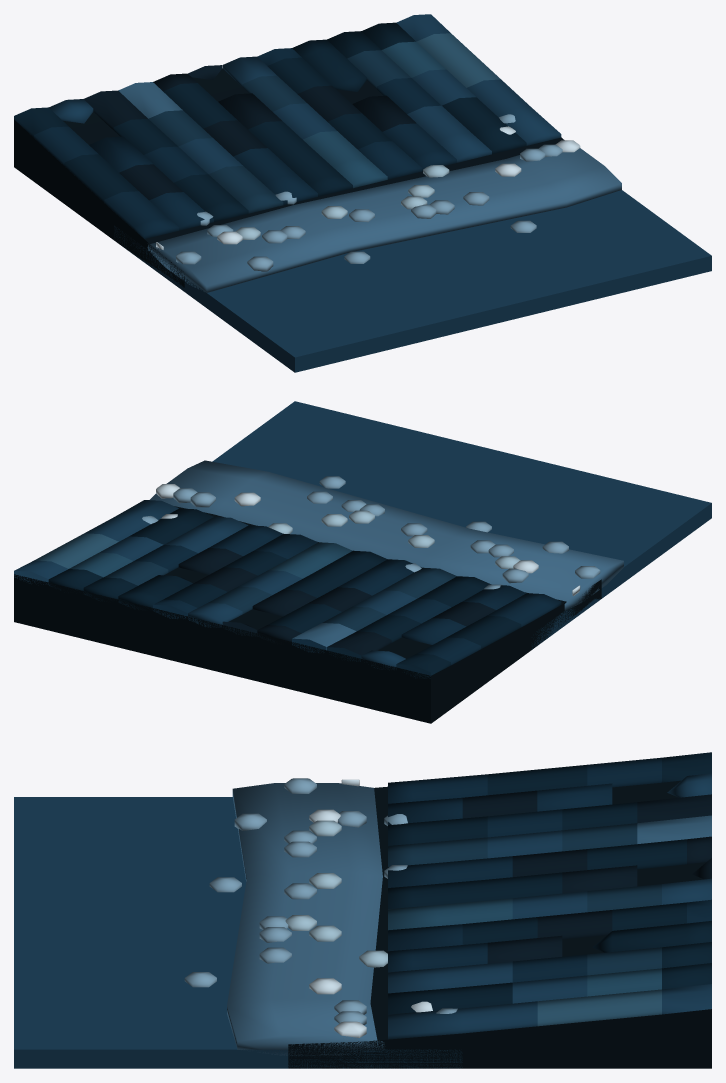
File: newshh-205.glb
3 renders of one model, top to bottom at view 1: azimuth 30°, elevation 25°; view 2: azimuth 150°, elevation 25°; view 3: azimuth 270°, elevation 25°, orthographic. The views are drawn at different scales.
Visible parts, largest first — view 1: newshh-205; view 2: newshh-205; view 3: newshh-205.
Boxes of the visible parts, left/top/right/bottom form: newshh-205: left=14, top=14, right=711, bottom=372; newshh-205: left=14, top=401, right=711, bottom=723; newshh-205: left=14, top=752, right=711, bottom=1068.
Bounding box in the file's own units: 2 × 0.25 × 2.33.
